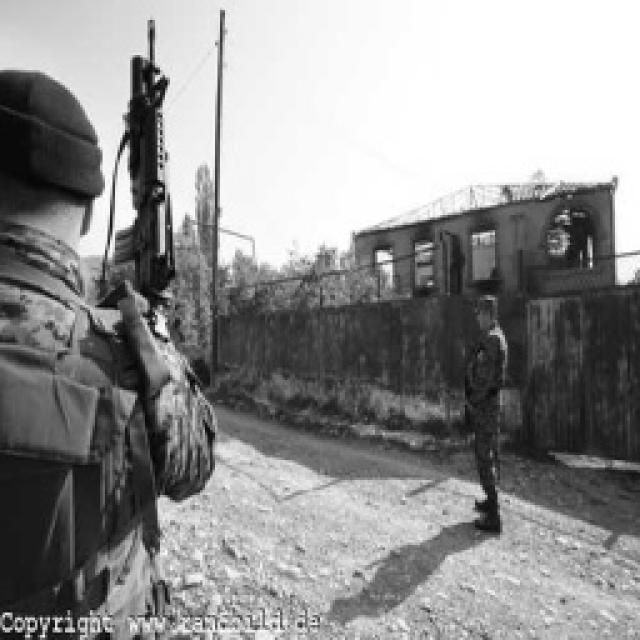long weapon: (109, 23, 200, 333)
